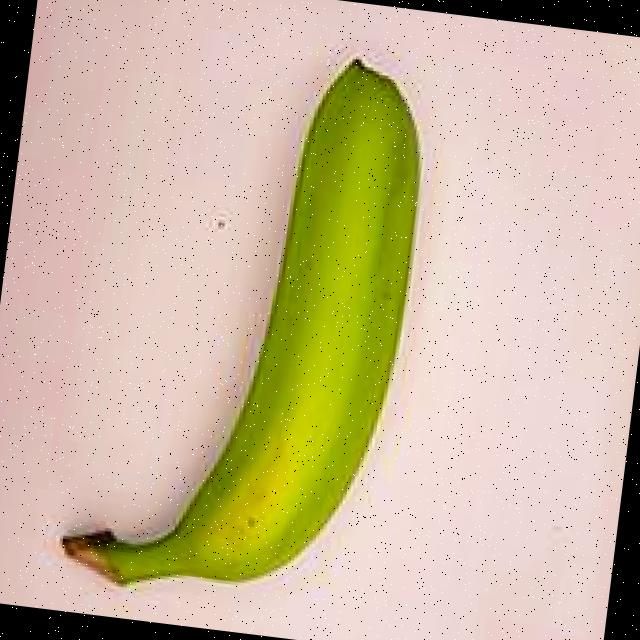Unripe: (38, 0, 481, 639)
